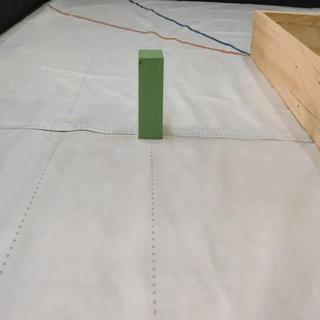greenbox: (137, 47, 166, 138)
